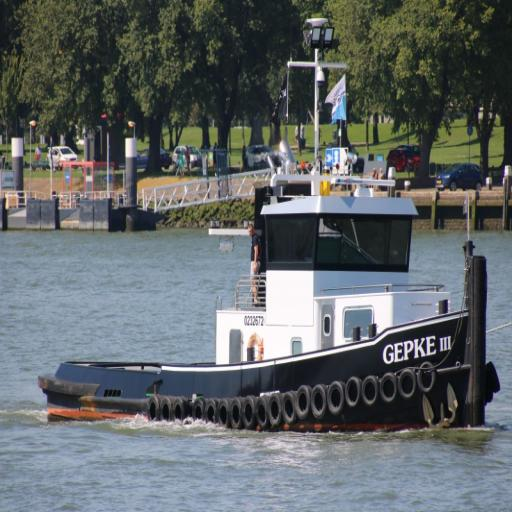tugboat: (36, 14, 505, 445)
